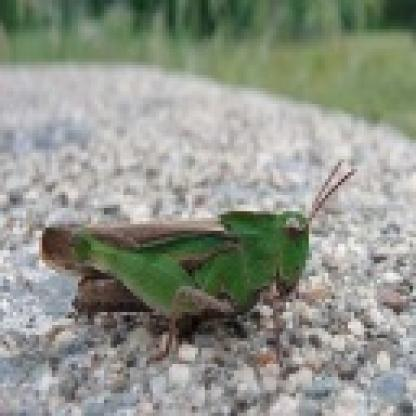grasshopper: (32, 157, 366, 355)
